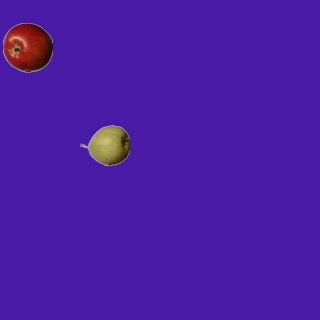Apple Braeburn: (2, 22, 52, 72)
Pear: (79, 120, 129, 170)
